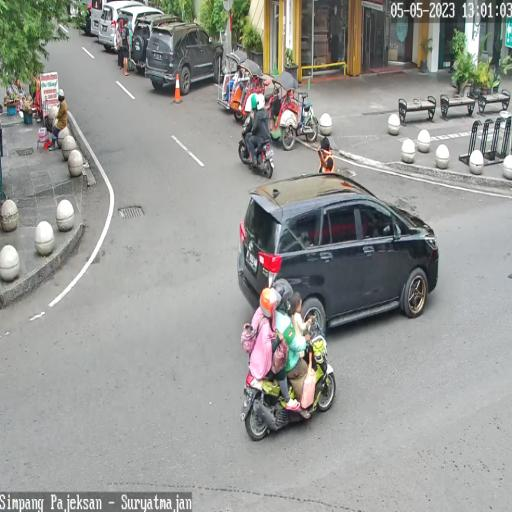mobil: (237, 173, 439, 340), (146, 20, 222, 93)
motor: (240, 316, 336, 443), (239, 106, 278, 176)
